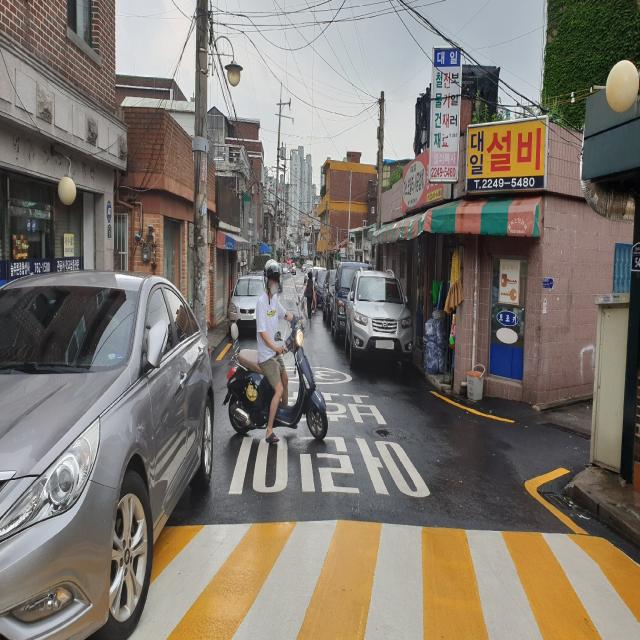car: (0, 269, 213, 640), (347, 268, 414, 370)
motorbike: (222, 322, 328, 441)
